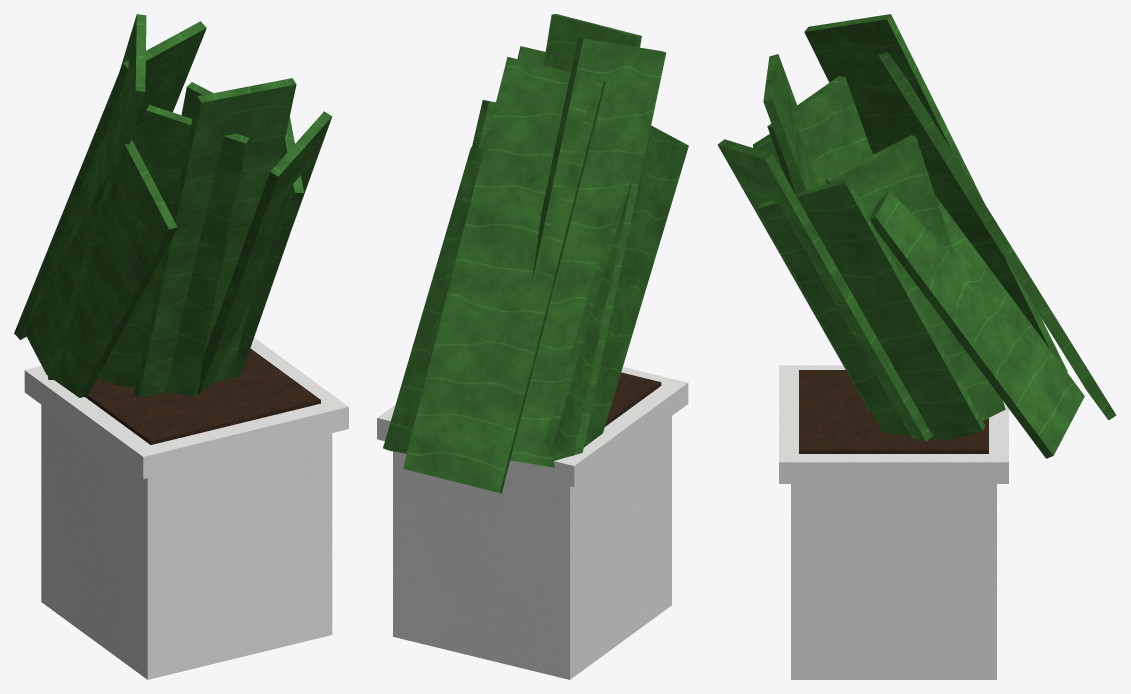
The picture shows the model from 3 angles, left to right: view 1: azimuth 30°, elevation 25°; view 2: azimuth 150°, elevation 25°; view 3: azimuth 270°, elevation 25°; orthographic projection. The views are drawn at different scales.
Visible parts, largest first — view 1: PlantPot_Game; view 2: PlantPot_Game; view 3: PlantPot_Game.
Boxes of the visible parts, box(x1,y1,x2,y2) form: PlantPot_Game: box(14, 14, 348, 679); PlantPot_Game: box(377, 14, 688, 679); PlantPot_Game: box(717, 14, 1116, 679).
Size of the model in its own units: 0.29 by 0.8328 by 0.5036.
3 materials, 3 textured.
